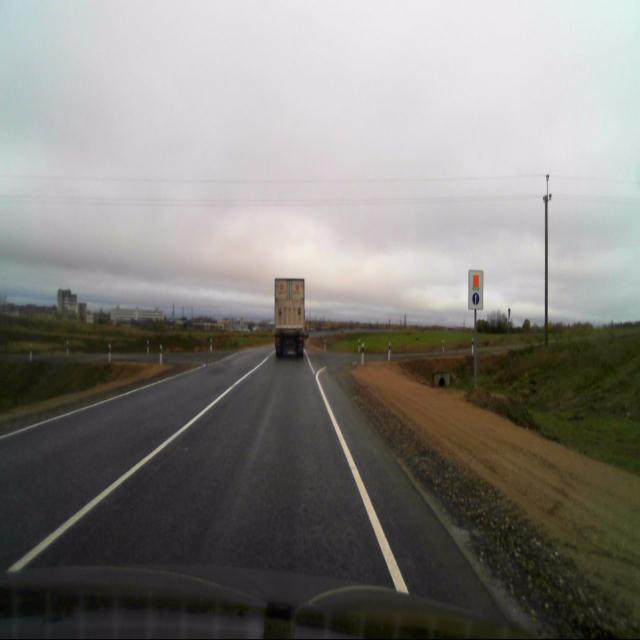object: (474, 312, 478, 392)
road sign: (468, 269, 484, 310)
